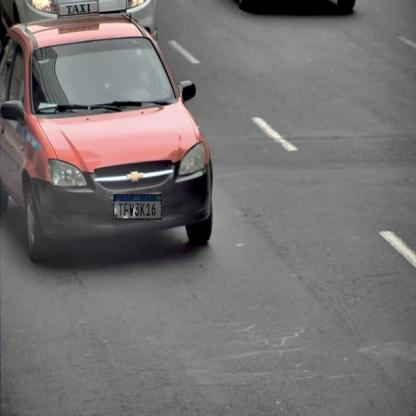PlacaM: (113, 194, 162, 220)
